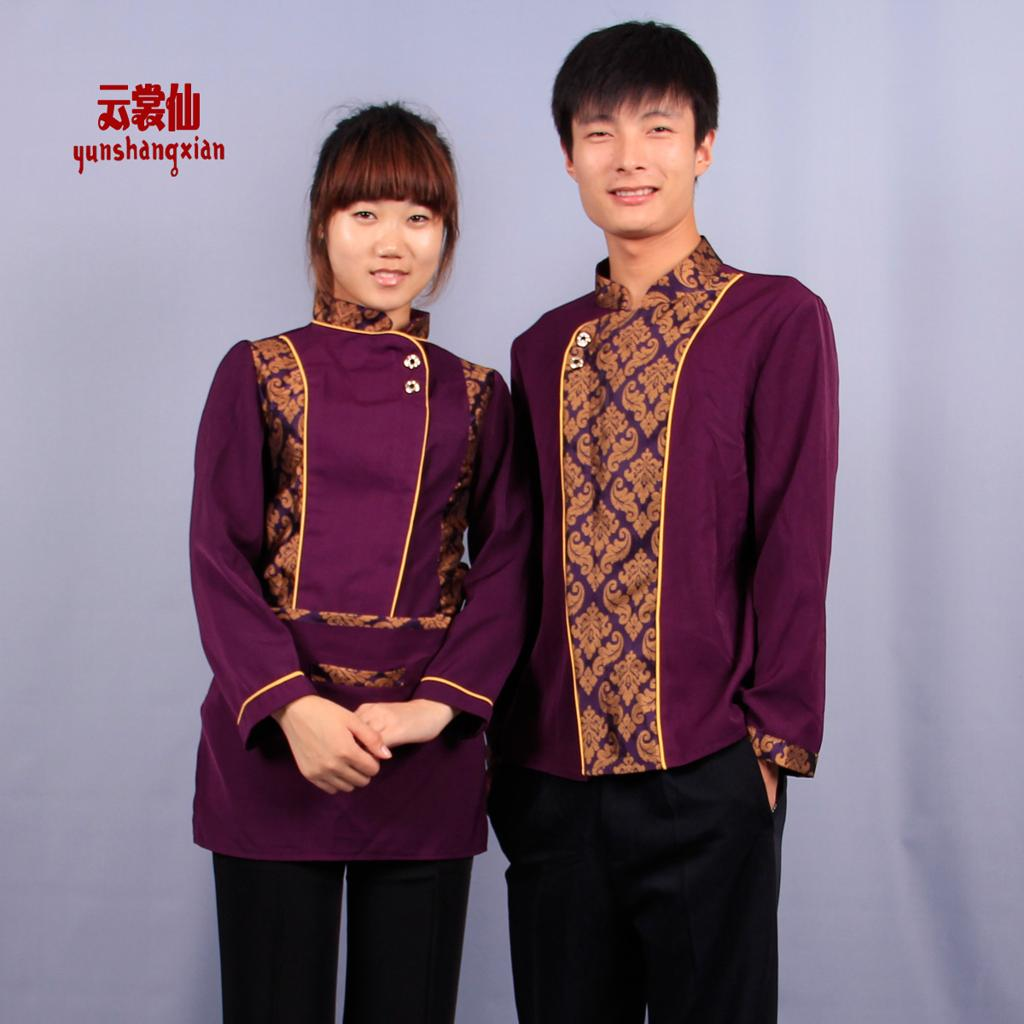face: (572, 72, 696, 230), (326, 160, 446, 306)
